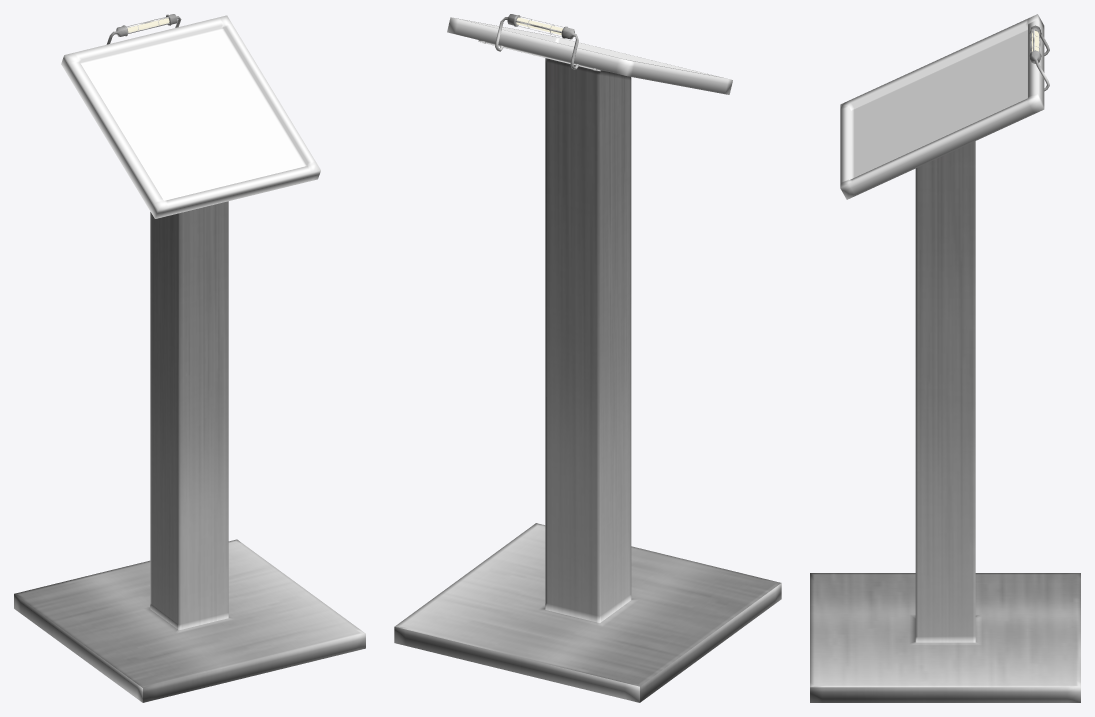
File: panneau-1.glb
3 renders of one model, left to right at view 1: azimuth 30°, elevation 25°; view 2: azimuth 150°, elevation 25°; view 3: azimuth 270°, elevation 25°, orthographic. The views are drawn at different scales.
Parts seen in each view (by area): view 1: Panneau; view 2: Panneau, Light support; view 3: Panneau, Light support.
Boxes of the visible parts, x1,y1,x2,y2 form: Panneau: (14,15,365,702); Panneau: (394,17,781,702); Light support: (495,14,578,69); Panneau: (810,14,1080,702); Light support: (1029,25,1049,91).
Size of the model in its own units: 0.1909 by 0.472 by 0.1909.
Materials: 3 (1 with a texture image).
